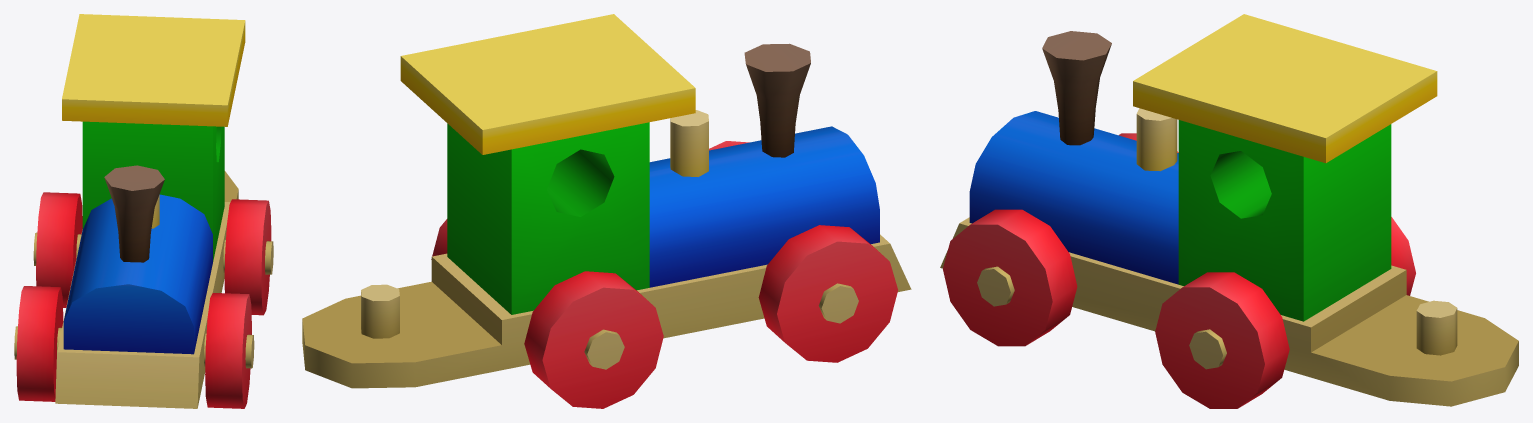
File: Train.fbx
The picture shows the model from 3 angles, left to right: view 1: azimuth 30°, elevation 25°; view 2: azimuth 150°, elevation 25°; view 3: azimuth 270°, elevation 25°; orthographic projection. The views are drawn at different scales.
Parts seen in each view (by area): view 1: Train; view 2: Train; view 3: Train.
Part boxes in pixels (box(x1,y1,x2,y2)): Train: box(14, 14, 273, 408); Train: box(302, 14, 911, 408); Train: box(940, 14, 1518, 408).
Size of the model in its own units: 2220 by 1456 by 2661.
Materials: 1 (1 with a texture image).
